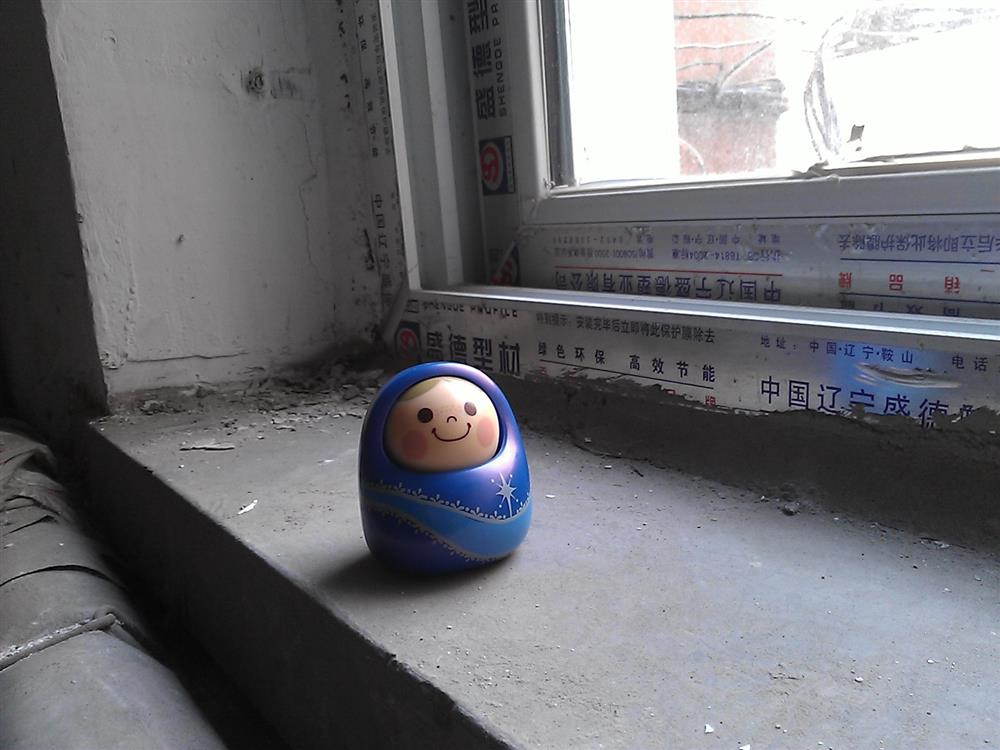matryoshka: (350, 353, 543, 575)
